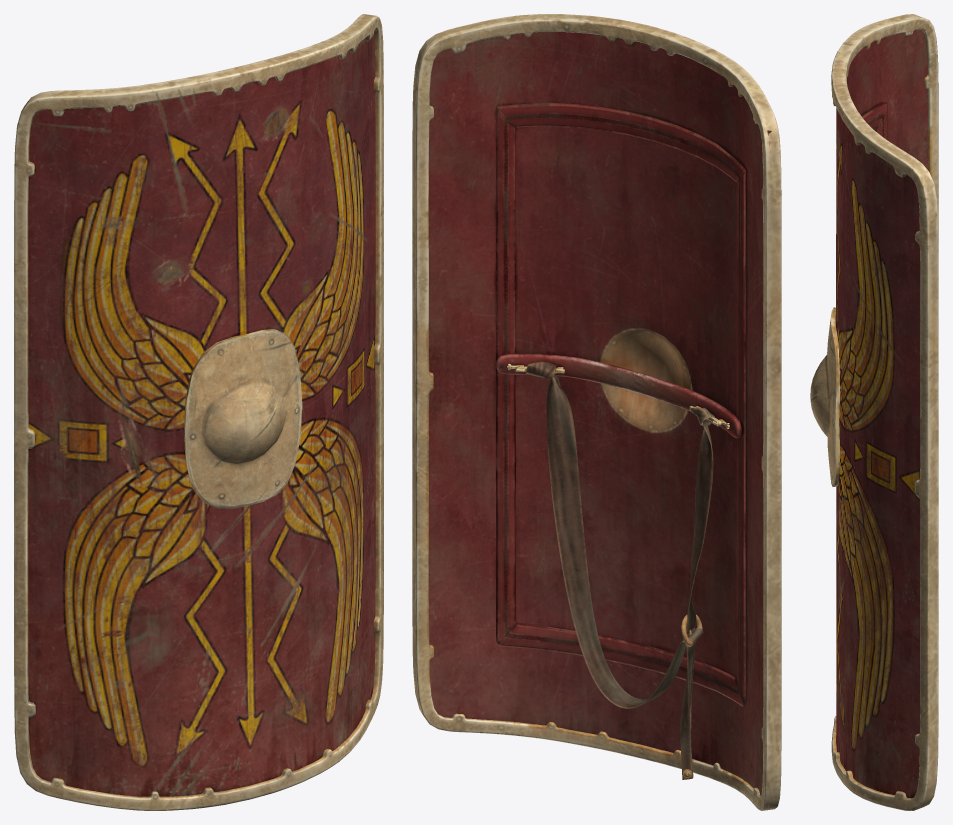
Rendered from scutum.glb.
The picture shows the model from 3 angles, left to right: view 1: azimuth 30°, elevation 25°; view 2: azimuth 150°, elevation 25°; view 3: azimuth 270°, elevation 25°; orthographic projection. The views are drawn at different scales.
Parts seen in each view (by area): view 1: polySurface155_Scutum_0; view 2: polySurface155_Scutum_0; view 3: polySurface155_Scutum_0.
Part boxes in pixels (left/top/right/bottom): polySurface155_Scutum_0: left=14, top=14, right=383, bottom=810; polySurface155_Scutum_0: left=412, top=14, right=781, bottom=810; polySurface155_Scutum_0: left=810, top=14, right=938, bottom=810.
Bounding box in the file's own units: 0.6091 × 1.15 × 0.197.
1 material, 1 textured.
